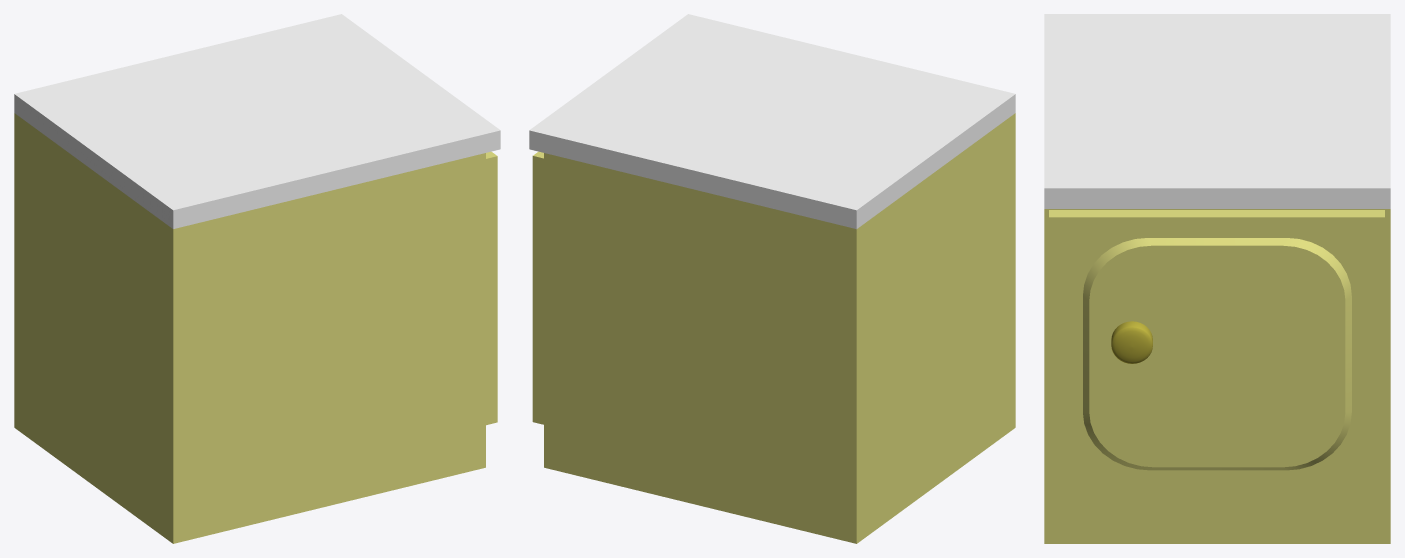
File: SmallCounter.fbx
3 renders of one model, left to right at view 1: azimuth 30°, elevation 25°; view 2: azimuth 150°, elevation 25°; view 3: azimuth 270°, elevation 25°, orthographic. The views are drawn at different scales.
Parts seen in each view (by area): view 1: Cube, Cylinder; view 2: Cube, Cylinder; view 3: Cylinder, Cube.
Boxes of the visible parts, box(x1,y1,x2,y2) form: Cube: box(14, 14, 500, 543); Cylinder: box(486, 151, 497, 425); Cube: box(529, 14, 1015, 543); Cylinder: box(532, 151, 543, 424); Cylinder: box(1049, 210, 1384, 507); Cube: box(1044, 14, 1390, 543).
Bounding box in the file's own units: 452 × 418 × 361.
